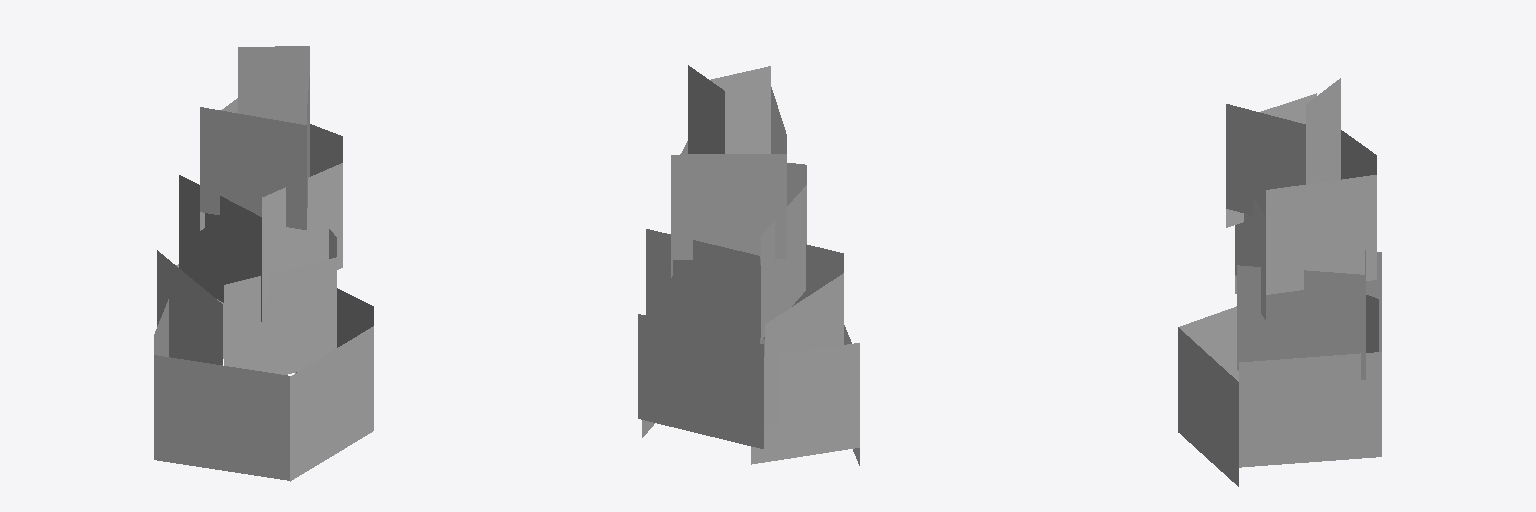
File: christmas_tree_wrap.obj
The picture shows the model from 3 angles: view 1: azimuth 30°, elevation 25°; view 2: azimuth 150°, elevation 25°; view 3: azimuth 270°, elevation 25°; orthographic projection.
Visible parts, largest first — view 1: Plane.015_Plane.008; view 2: Plane.015_Plane.008; view 3: Plane.015_Plane.008.
Boxes of the visible parts, x1,y1,x2,y2 form: Plane.015_Plane.008: [154, 46, 373, 481]; Plane.015_Plane.008: [638, 65, 859, 465]; Plane.015_Plane.008: [1178, 78, 1381, 486].
Bounding box in the file's own units: 1.93 × 3.5 × 1.76.